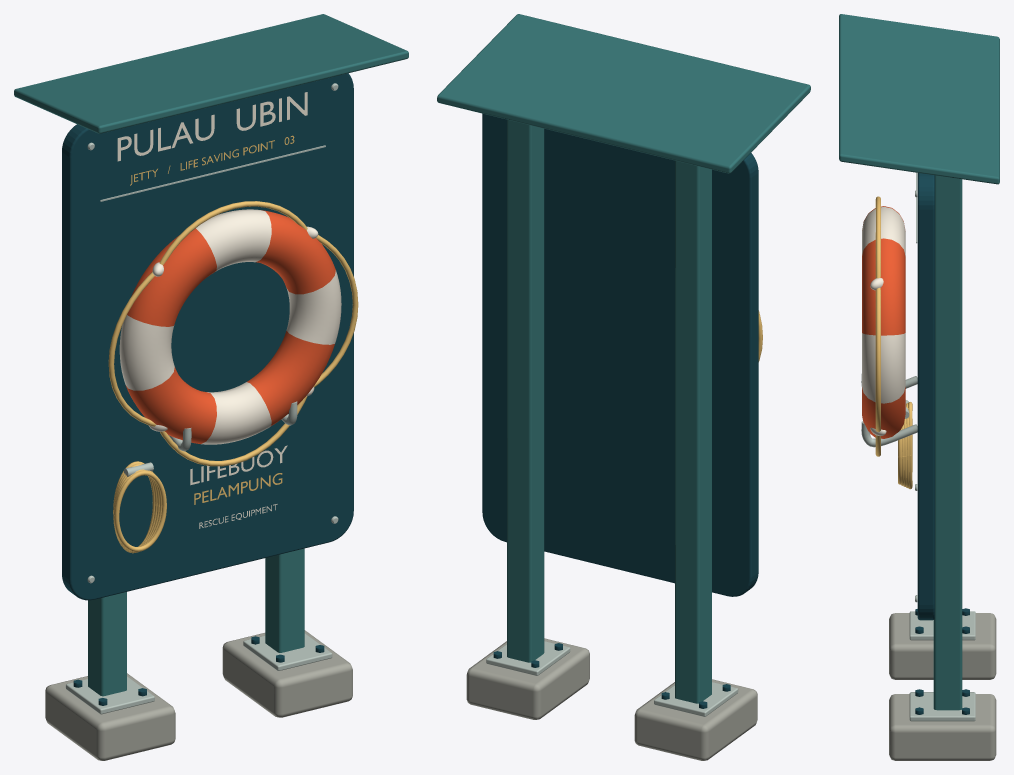
The picture shows the model from 3 angles, left to right: view 1: azimuth 30°, elevation 25°; view 2: azimuth 150°, elevation 25°; view 3: azimuth 270°, elevation 25°; orthographic projection. The views are drawn at different scales.
Visible parts, largest first — view 1: Frame, Rescue ring, Foundation, Station legend, Mounts; view 2: Frame, Foundation; view 3: Frame, Foundation, Rescue ring, Mounts.
Part boxes in pixels (box(x1,y1,x2,y2)): Frame: box(14, 14, 408, 696); Rescue ring: box(108, 201, 358, 466); Foundation: box(45, 630, 352, 760); Station legend: box(100, 92, 325, 528); Mounts: box(113, 401, 297, 553); Frame: box(437, 14, 810, 703); Foundation: box(466, 638, 757, 760); Frame: box(839, 14, 999, 710); Foundation: box(889, 608, 996, 760); Rescue ring: box(862, 196, 905, 456); Mounts: box(861, 373, 917, 489).
Bounding box in the file's own units: 0.94 × 1.92 × 0.45.
